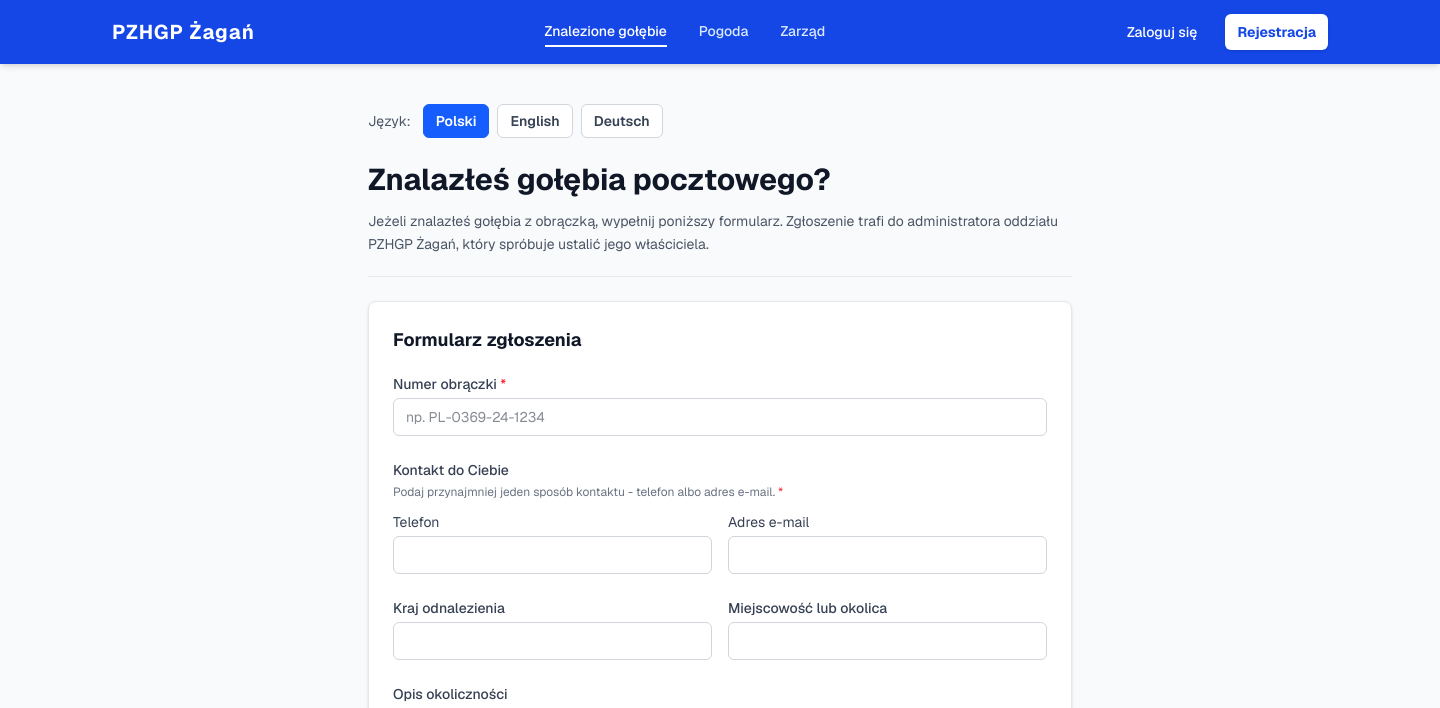
Test case: Found Pigeons Page Tests › Should reject an invalid ring number format
Check: the navigation bar named "Główna nawigacja" is shown, box left=0, top=0, right=1439, bottom=64
Check: the link "PZHGP Żagań" is shown, box left=112, top=18, right=255, bottom=46
Type "PL-1234" into the field with id "ring-number" at (720, 417), box left=393, top=398, right=1047, bottom=436
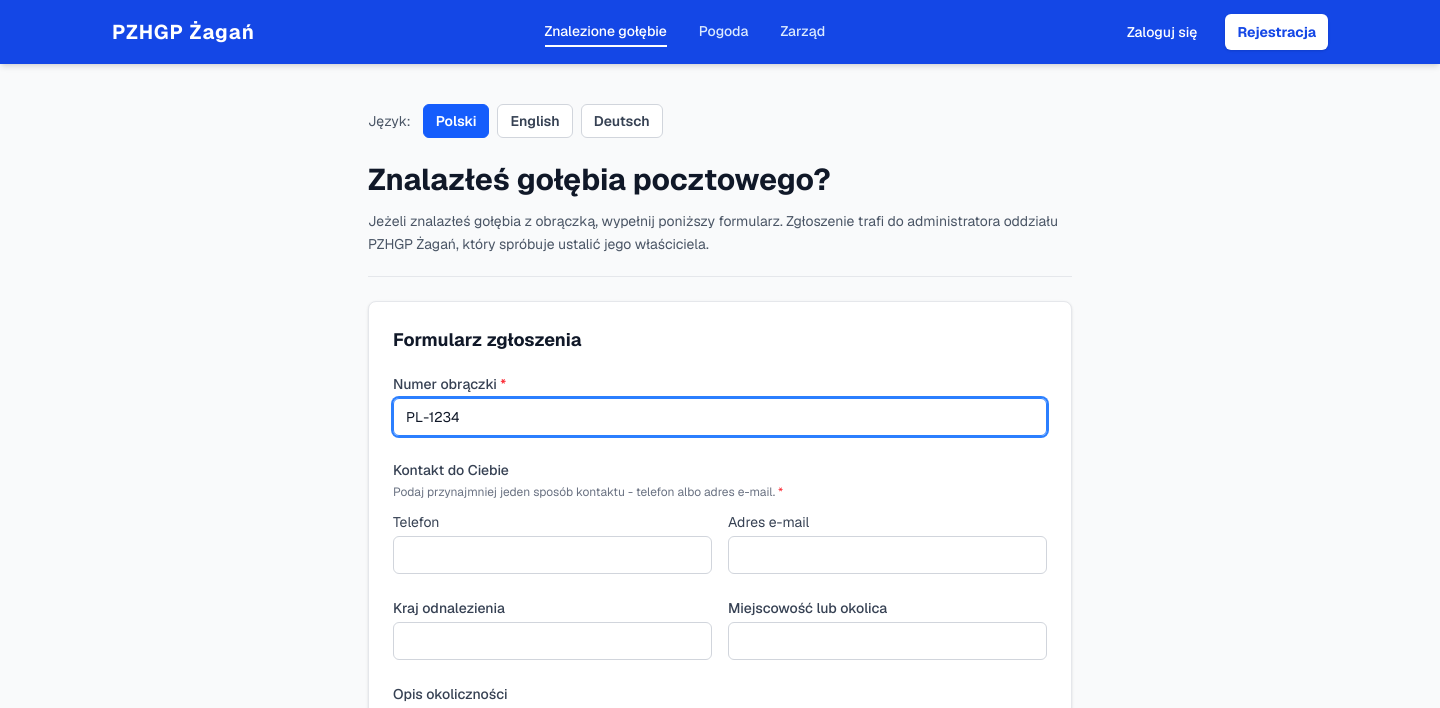
Type "601234567" into the field with id "contact-phone" at (553, 555), box left=393, top=536, right=712, bottom=574
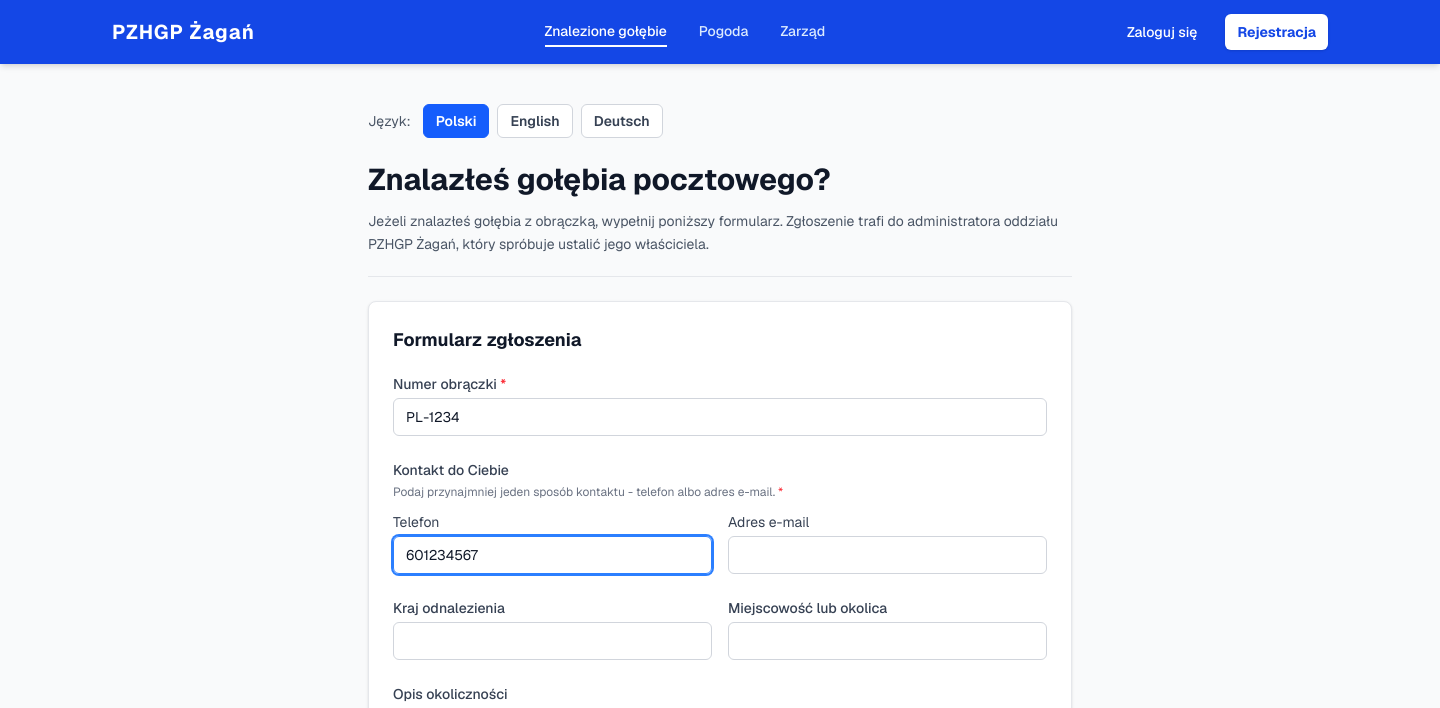
Scroll
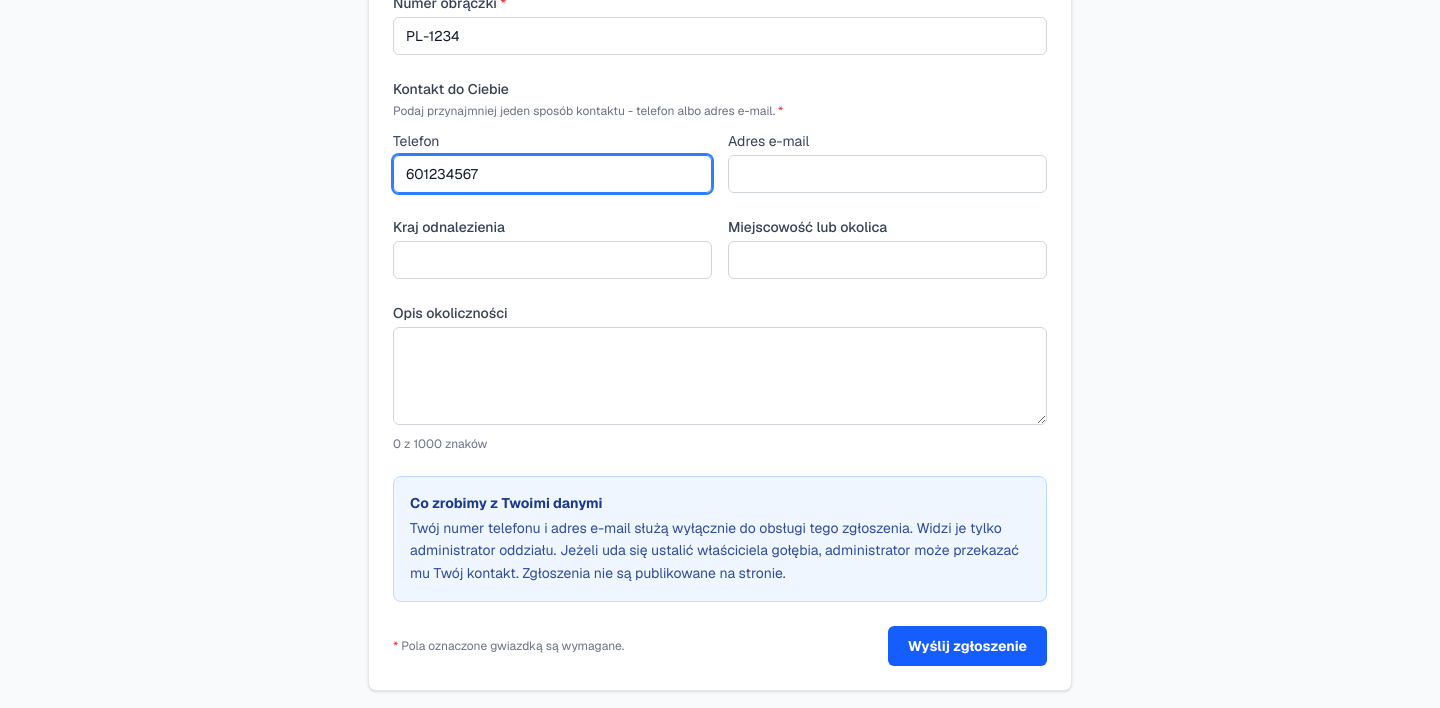
Click the button "Wyślij zgłoszenie" at (968, 646), box left=888, top=626, right=1047, bottom=666
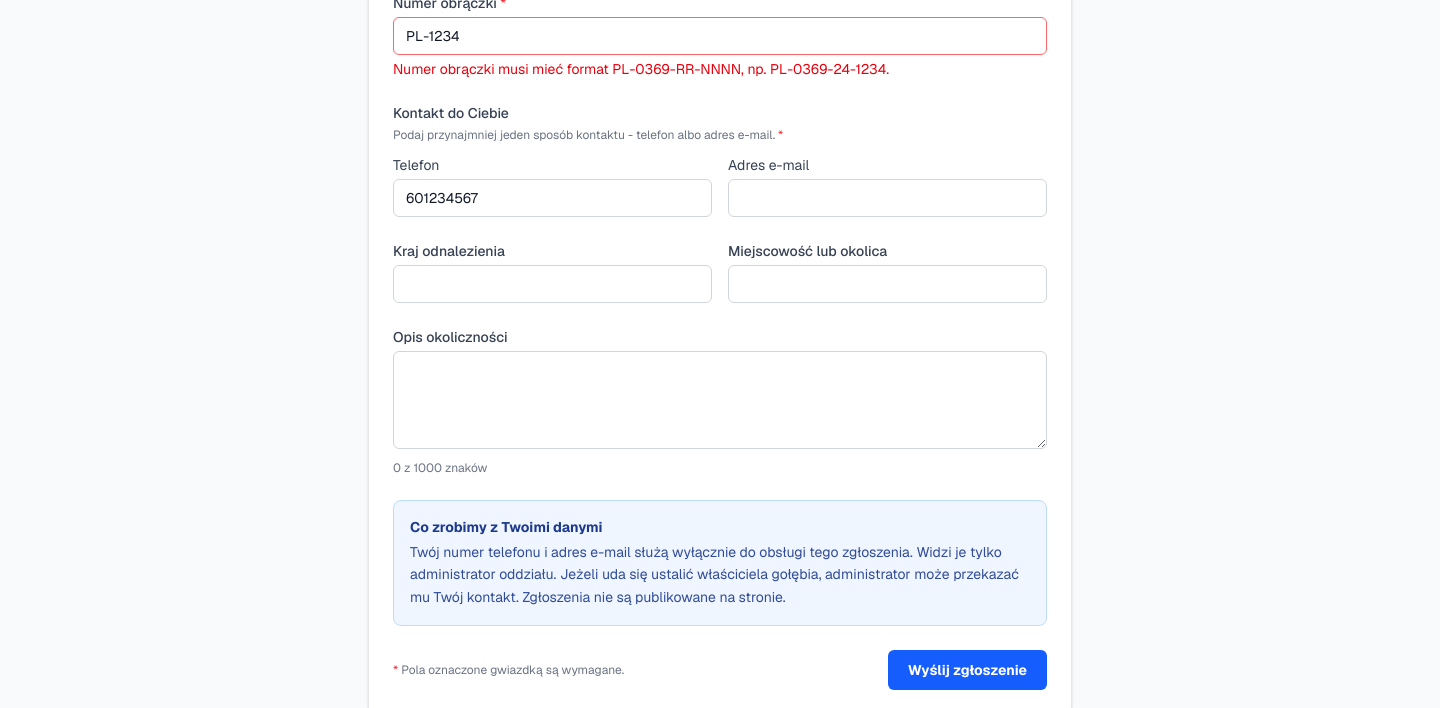
Check: the text "Numer obrączki musi mieć format PL-0369-RR-NNNN, np. PL-0369-24-1234." is shown, box left=393, top=60, right=889, bottom=78
